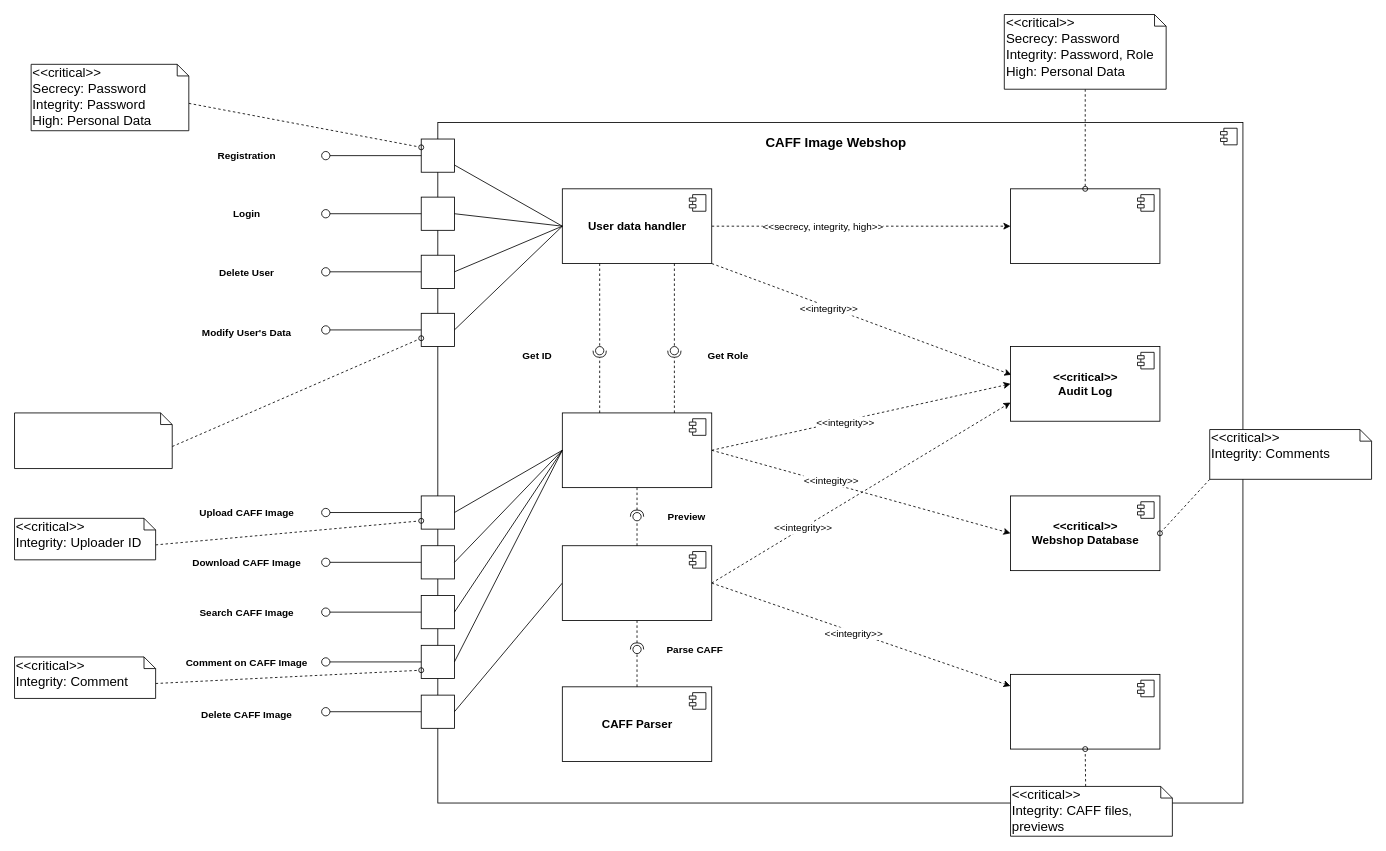
The diagram is 1386 pixels wide and 851 high, and some of its shapes have lost their labels. Here are the shapes that lost their labels. From the top down, the centre of each, then its label:
At [1085,226]: "<<critical>> User Data Database".
At [93,440]: "<<critical>> Integrity: Password, Role High: Personal Data".
At [636,450]: "Webshop".
At [636,582]: "CAFF Handler".
At [1085,711]: "<<critical>> File Storage".
